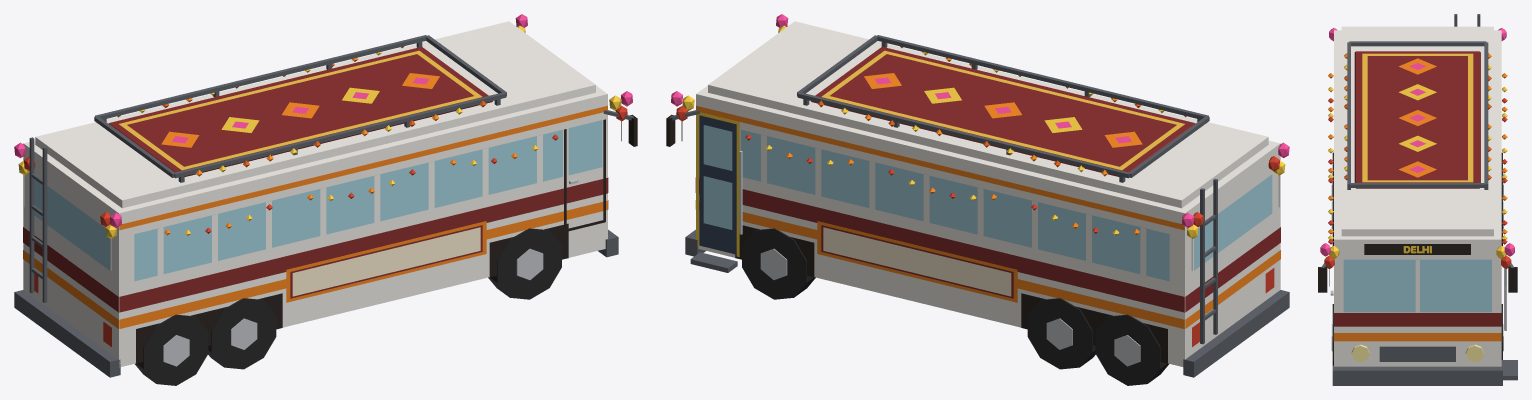
File: bus_baraat.glb
3 renders of one model, left to right at view 1: azimuth 30°, elevation 25°; view 2: azimuth 150°, elevation 25°; view 3: azimuth 270°, elevation 25°, orthographic. The views are drawn at different scales.
Parts seen in each view (by area): view 1: bus_baraat; view 2: bus_baraat; view 3: bus_baraat.
Boxes of the visible parts, x1,y1,x2,y2 form: bus_baraat: (14,14,637,385); bus_baraat: (666,14,1289,385); bus_baraat: (1318,14,1517,385).
Size of the model in its own units: 6.89 by 2.59 by 2.62.
1 material, 1 textured.
